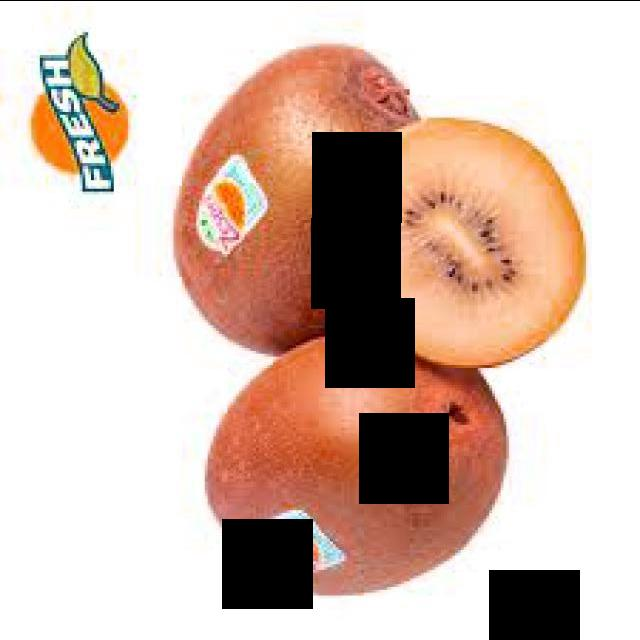kiwi: (200, 340, 513, 613), (169, 41, 417, 354)
